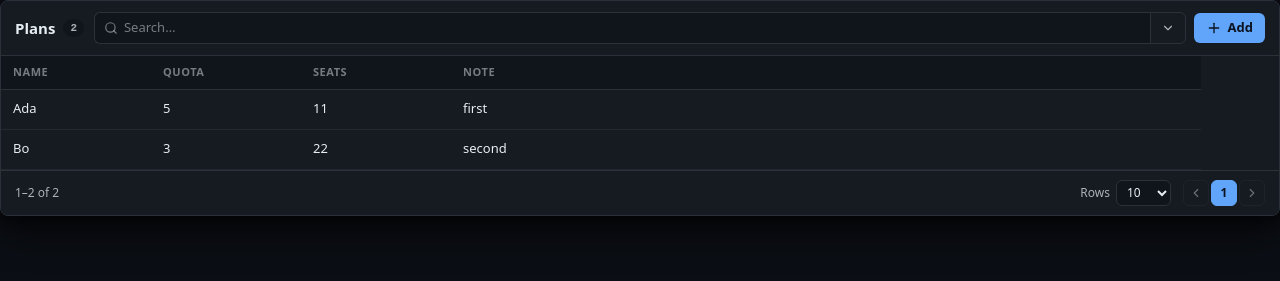
Test case: EditingRow in a flat grid › closes the draft when it is saved from the Save button
Expected: the text "Ada" is shown, [13,99,37,117]
Click the button "Add" at (1229, 28), box [1194,13,1265,43]
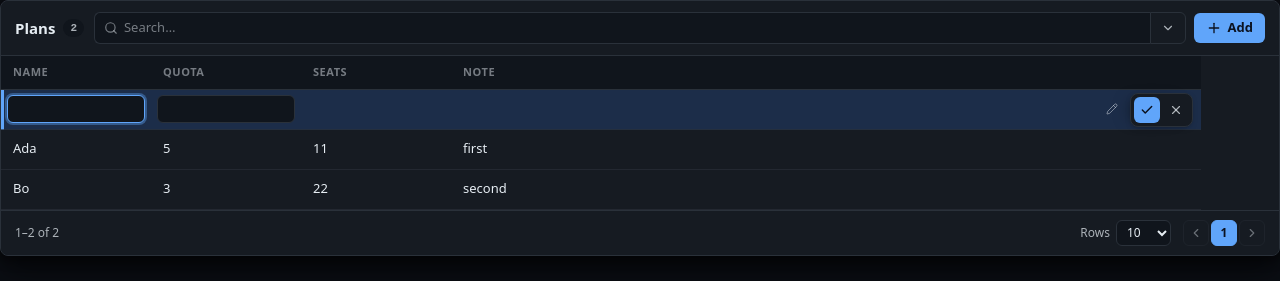
Now the 2nd row is shown, box [1,90,1201,130]
Type "Cy" into the field named "Name" at (76, 109), box [7,95,145,123]
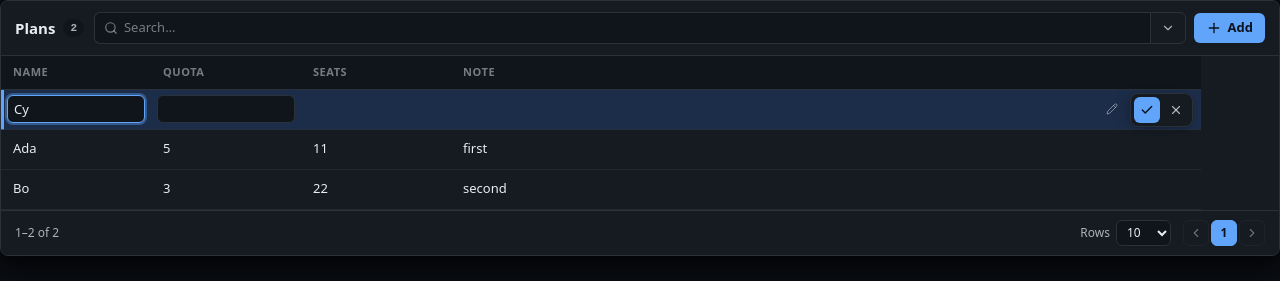
Click the button named "Save" at (1147, 110), box [1134,96,1160,122]
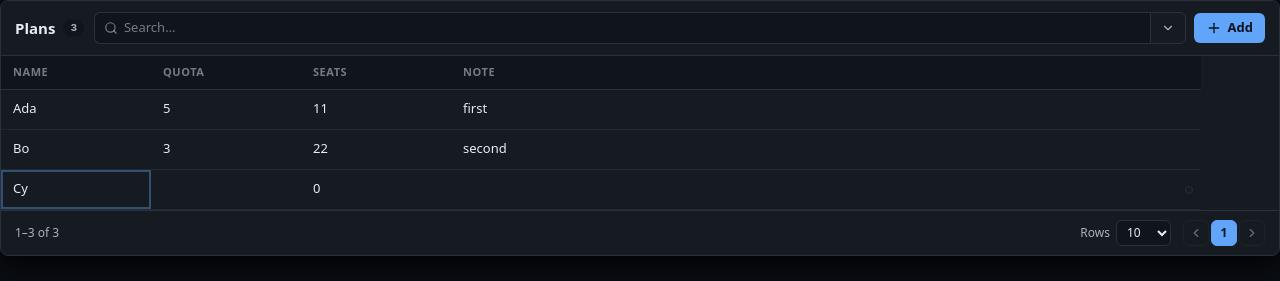
Now the text "Cy" is shown, box [13,179,28,197]
